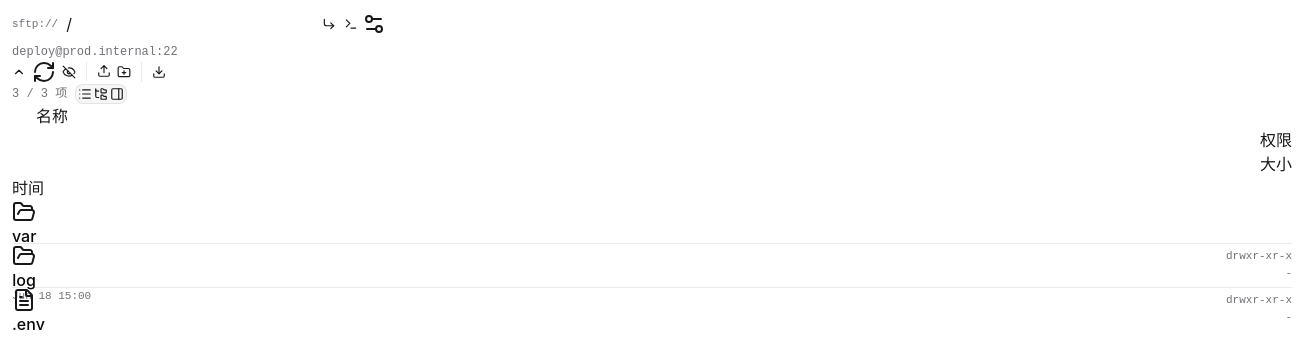
SftpToolContent selection behavior › keeps selection when opening the current-directory context menu
The width and height of the screenshot is (1304, 349).
Click the button with aria-label "打开目录 var" at [24, 224], box [12,200,36,248]
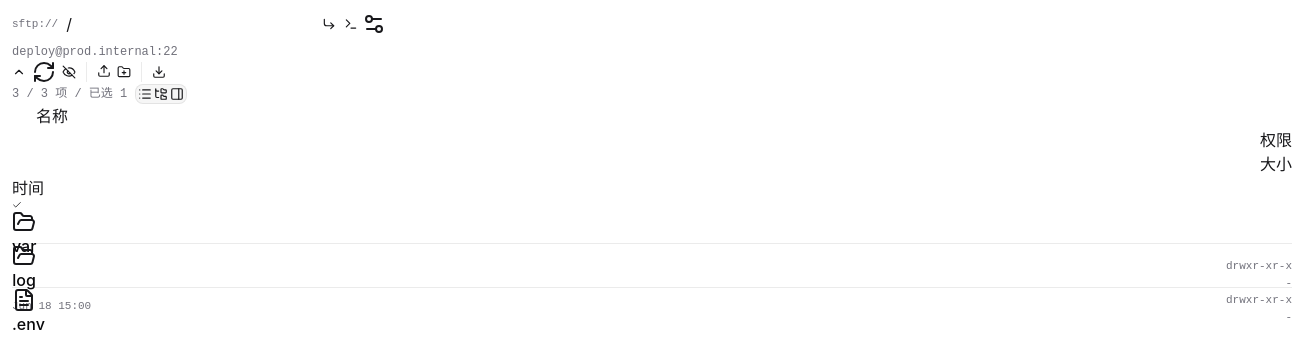
Click the button with aria-label "打开目录 log" at [24, 268], box [12,244,36,292]
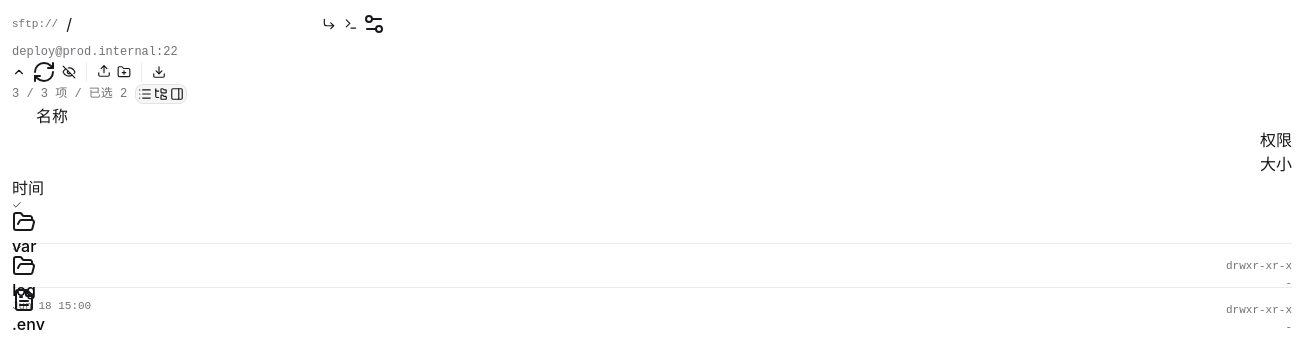
Right-click the element with test id "sftp-drop-zone" at [652, 218], box [12,104,1292,332]
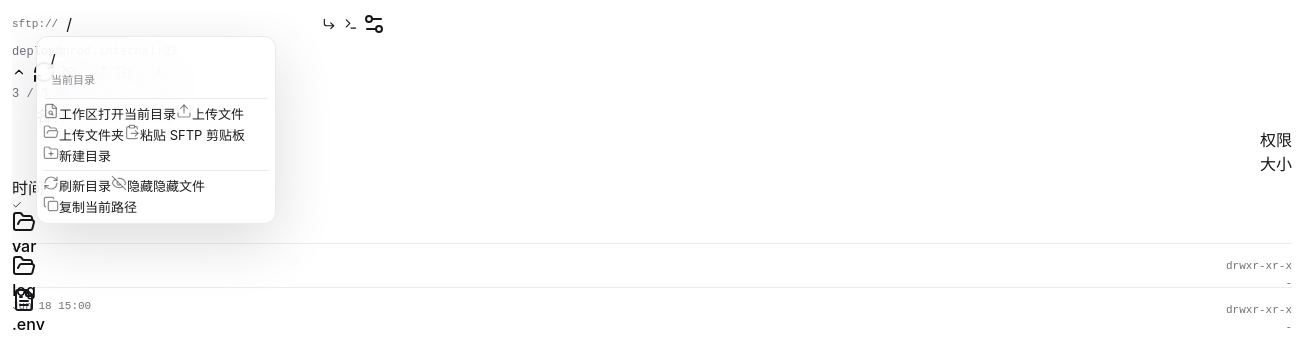
Expected: the element named "打开目录 var" is shown, [12,200,1292,315]
Now the text "3 / 3 项 / 已选 2" is shown, box [12,86,127,102]
Now the menu named "SFTP 目录右键菜单" is shown, box [36,36,276,224]
